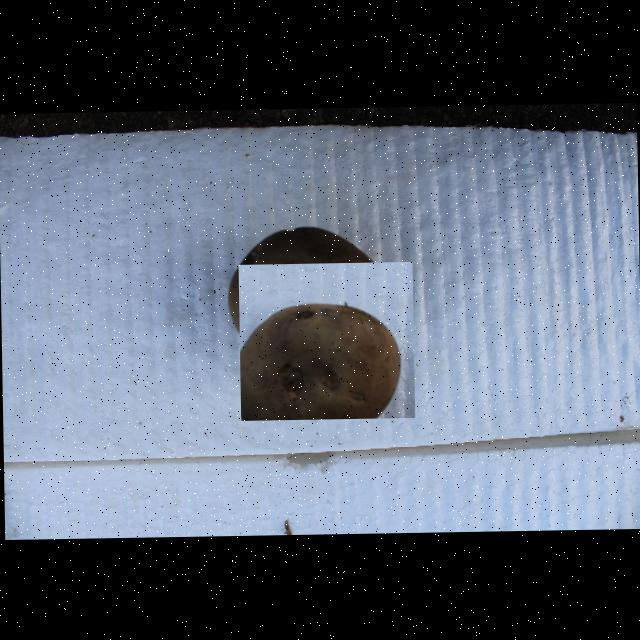Diseased-fungal potato: (237, 260, 414, 420)
